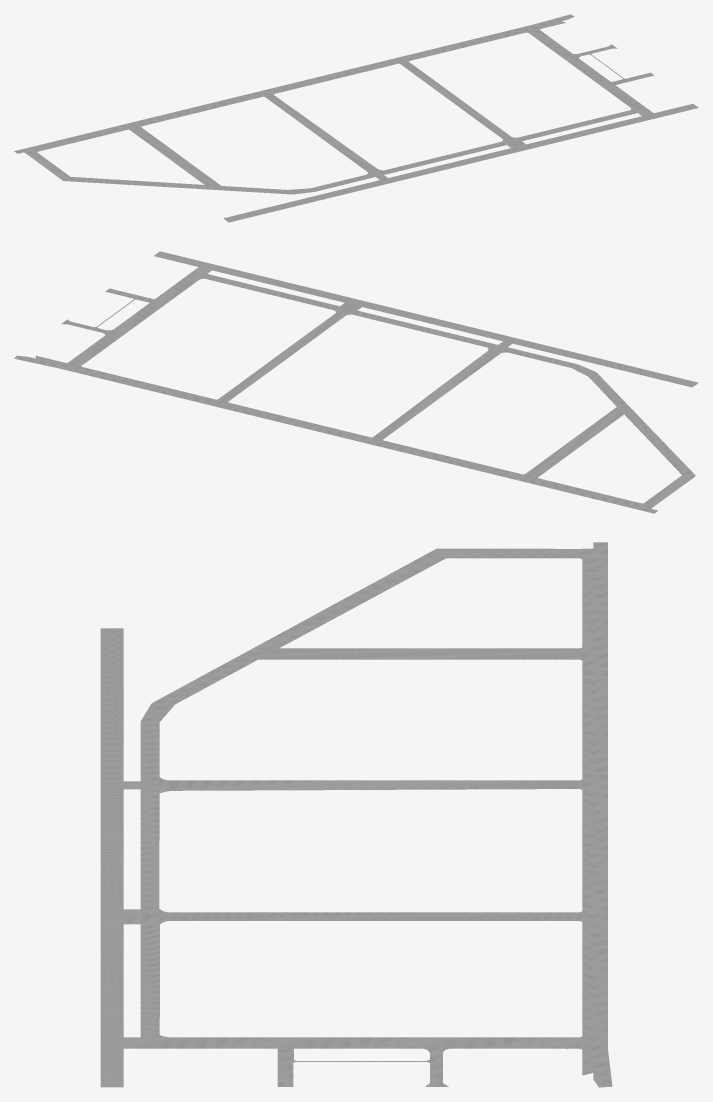
The model's file is malu_xiugai_mol.FBX.
3 views of the same model, one above another, from view 1: azimuth 30°, elevation 25°; view 2: azimuth 150°, elevation 25°; view 3: azimuth 270°, elevation 25° (orthographic). The views are drawn at different scales.
Parts seen in each view (by area): view 1: malu_xiugai; view 2: malu_xiugai; view 3: malu_xiugai.
Part boxes in pixels (x1,y1,x2,y2): malu_xiugai: (14, 14, 698, 222); malu_xiugai: (14, 251, 698, 513); malu_xiugai: (100, 542, 612, 1087).
Size of the model in its own units: 928 by 0.00129 by 368.
